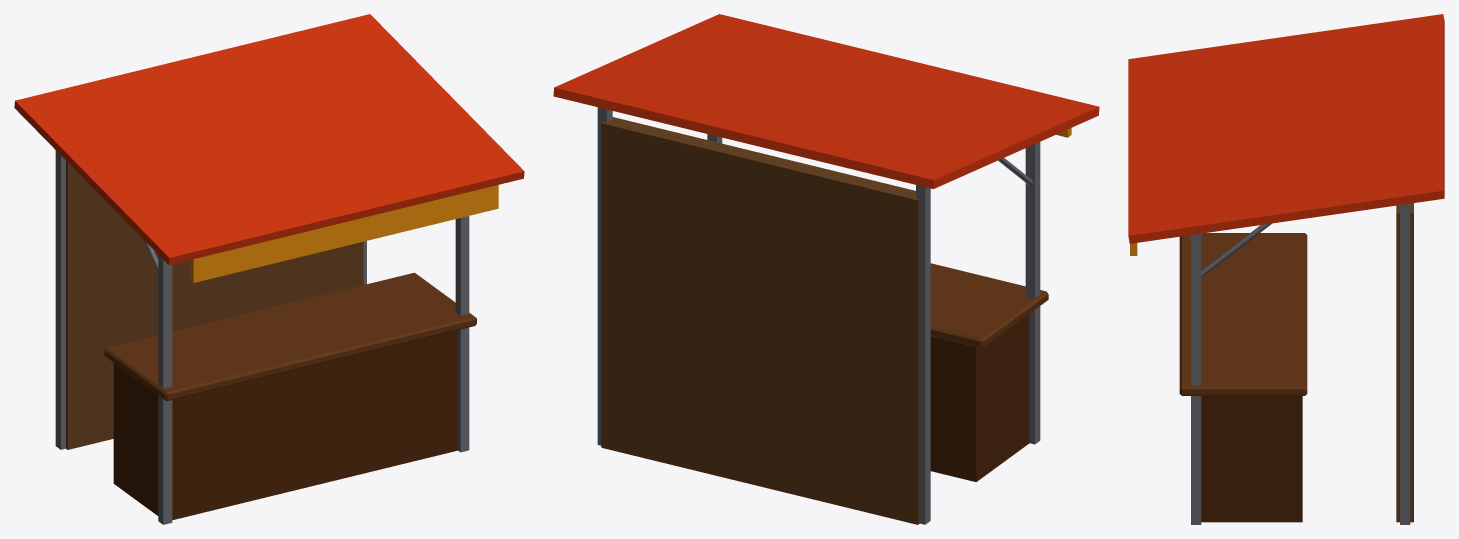
Rendered from SM_FoodKiosk.fbx.
3 renders of one model, left to right at view 1: azimuth 30°, elevation 25°; view 2: azimuth 150°, elevation 25°; view 3: azimuth 270°, elevation 25°, orthographic. The views are drawn at different scales.
Visible parts, largest first — view 1: SM_FoodKiosk; view 2: SM_FoodKiosk; view 3: SM_FoodKiosk.
Part boxes in pixels (x1,y1,x2,y2): SM_FoodKiosk: (14,14,524,524); SM_FoodKiosk: (553,14,1099,524); SM_FoodKiosk: (1128,14,1444,524).
Size of the model in its own units: 282 by 258 by 213.
